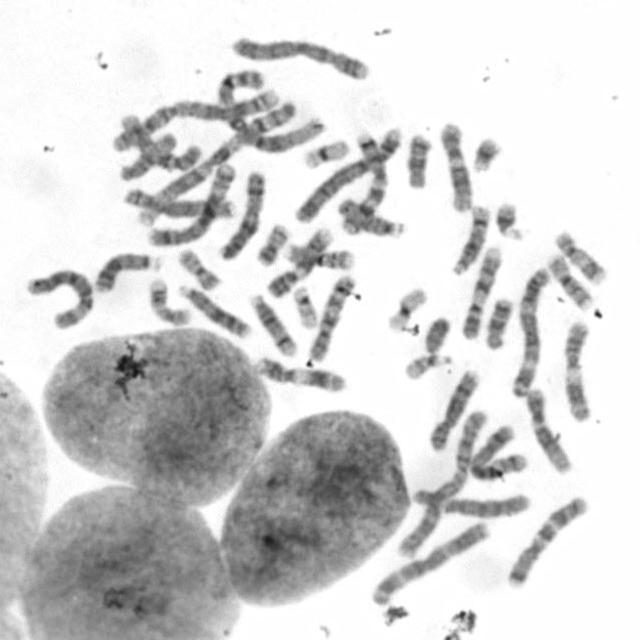A1: (124, 88, 294, 229), (212, 66, 323, 154)
A2: (393, 403, 492, 561), (108, 90, 288, 152)
A3: (367, 516, 492, 608), (507, 262, 553, 398)
B4: (290, 123, 403, 225), (228, 31, 372, 82)
B5: (144, 159, 240, 249), (467, 424, 531, 481)
C10: (115, 108, 205, 172), (305, 270, 357, 362)
C11: (250, 354, 348, 394), (560, 317, 594, 425)
C12: (523, 384, 575, 475), (437, 117, 474, 214)
C6: (23, 264, 95, 331), (407, 483, 532, 520)
C7: (501, 492, 591, 590), (337, 125, 395, 236)
C8: (424, 367, 482, 452), (121, 183, 238, 220)
C9: (263, 224, 335, 300), (457, 242, 504, 341)
D13: (175, 281, 252, 339), (91, 248, 163, 293)
D14: (246, 289, 300, 358), (447, 202, 492, 277)
D15: (115, 129, 179, 183), (334, 194, 407, 240)
E16: (543, 249, 596, 311), (281, 240, 356, 271)
E17: (551, 225, 609, 288), (146, 276, 193, 326)
E18: (482, 294, 515, 351), (403, 129, 432, 191)
F19: (382, 284, 429, 334), (299, 135, 351, 170)
F20: (174, 245, 223, 291), (253, 222, 291, 267)
G21: (491, 198, 527, 242), (468, 133, 503, 174)
G22: (400, 350, 455, 381), (289, 282, 320, 330)
X: (214, 166, 267, 261)
Y: (420, 312, 453, 354)
